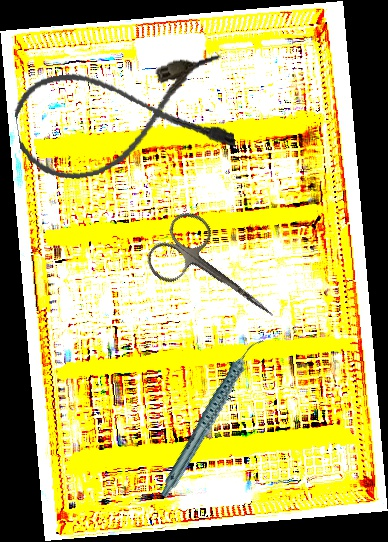Cannula: (10, 49, 237, 188)
Handpiece: (131, 335, 292, 499)
Iris Scissors: (140, 204, 295, 347)
